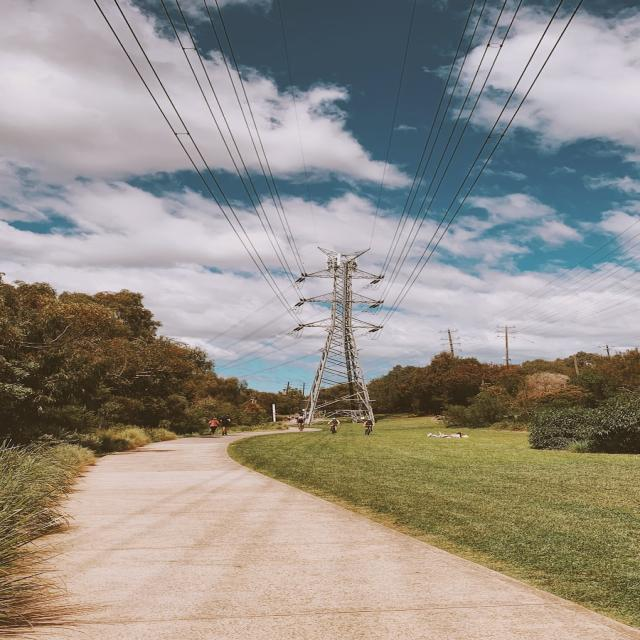transmission tower: (205, 213, 448, 485)
